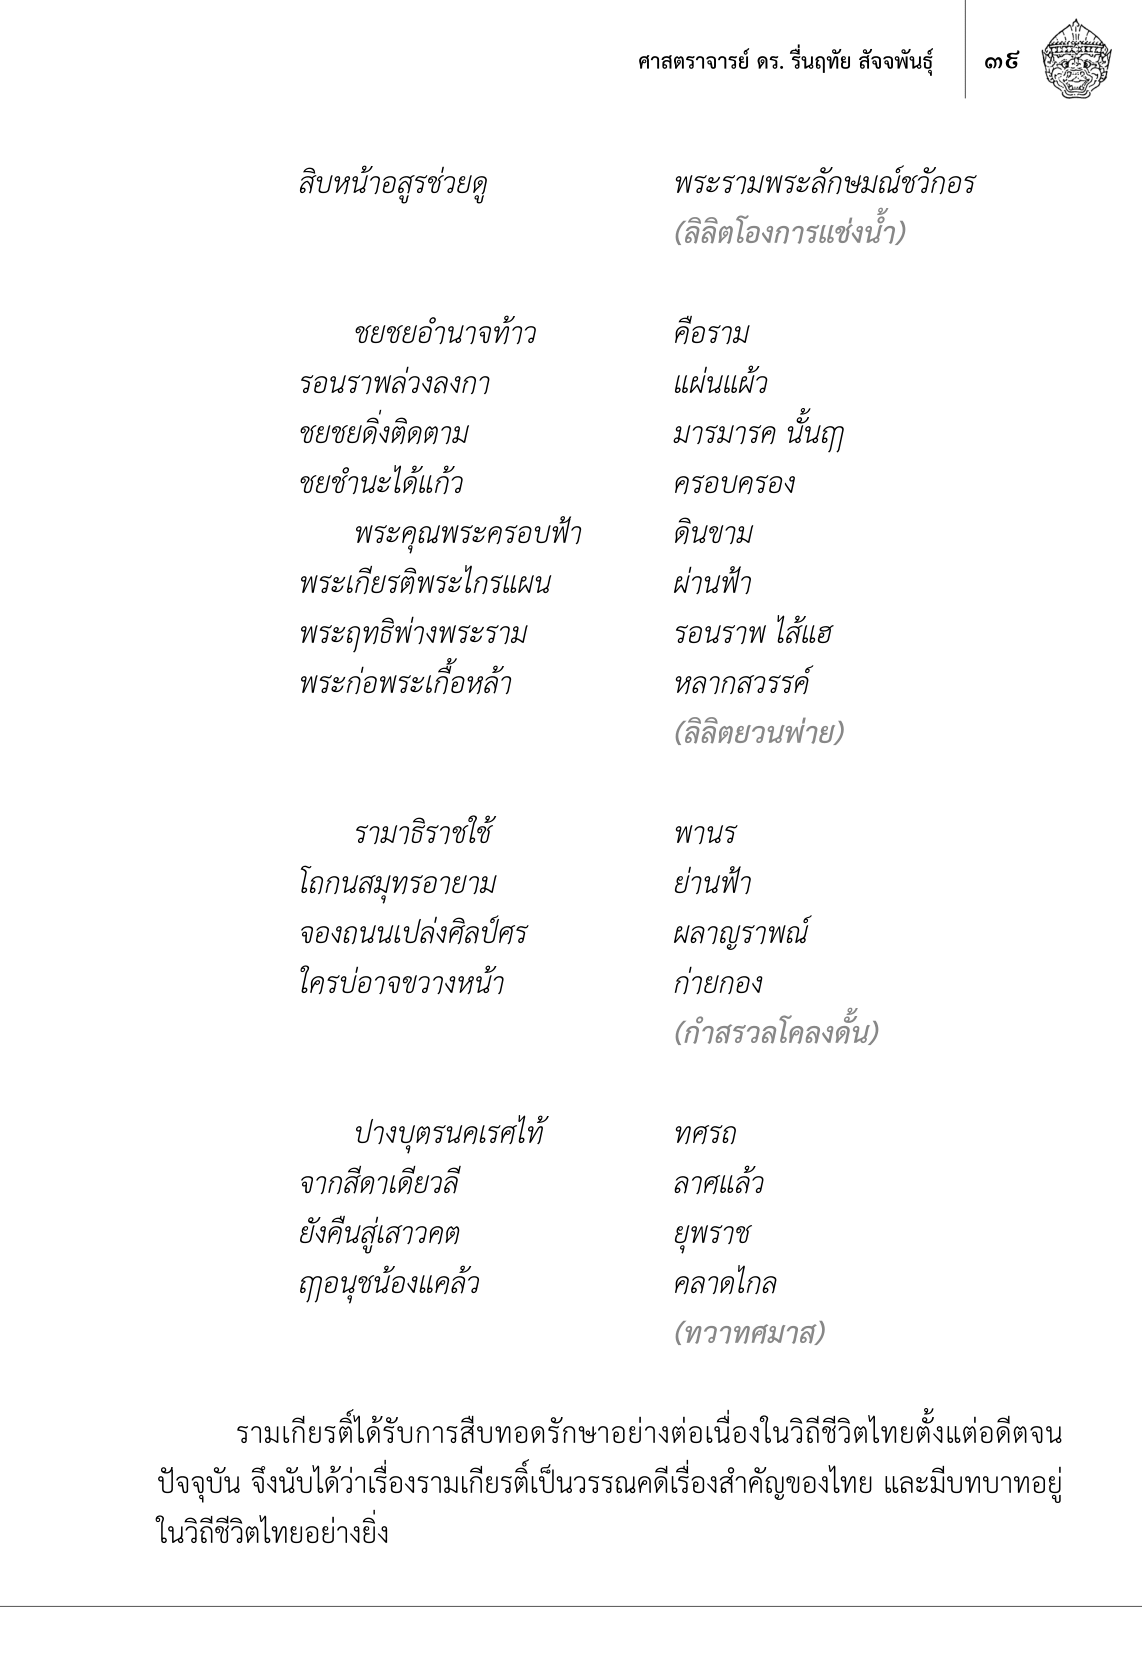thai: (151, 1400, 1067, 1552), (672, 304, 846, 759), (294, 1104, 552, 1316), (296, 510, 584, 700), (294, 803, 529, 1010), (672, 819, 881, 1051), (294, 309, 540, 503), (672, 1115, 827, 1351), (671, 161, 979, 258), (634, 36, 938, 80), (296, 158, 492, 214), (982, 44, 1023, 83)
